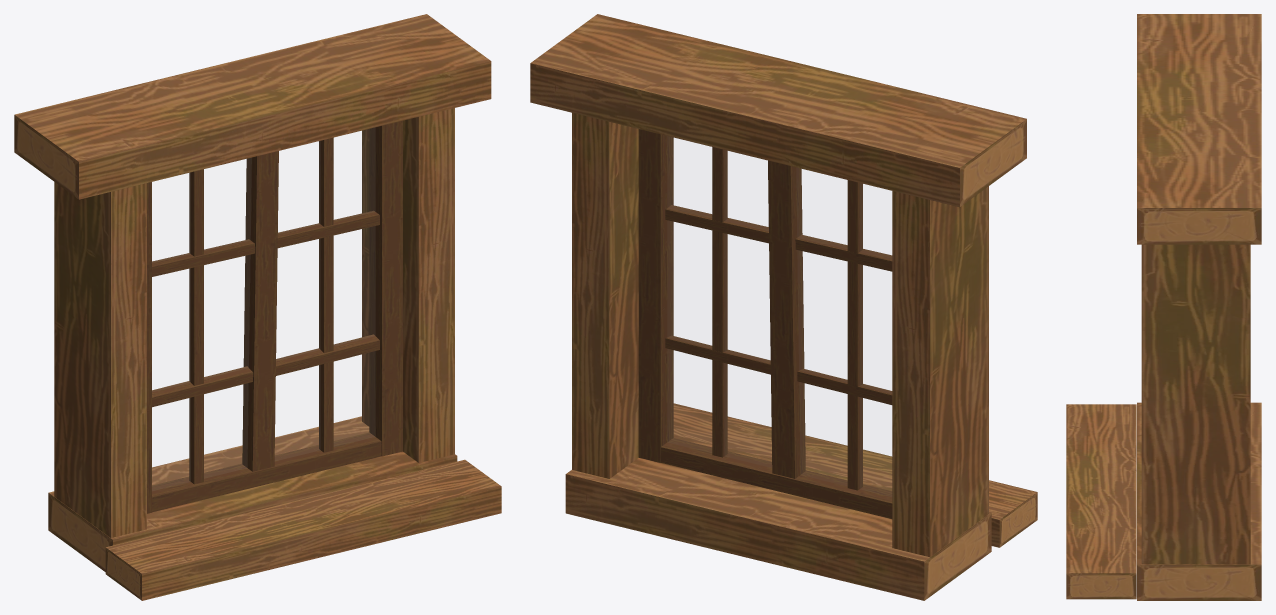
Rendered from Window_Wide_Flat1.gltf.
3 renders of one model, left to right at view 1: azimuth 30°, elevation 25°; view 2: azimuth 150°, elevation 25°; view 3: azimuth 270°, elevation 25°, orthographic. The views are drawn at different scales.
Visible parts, largest first — view 1: Window_Wide_Flat1; view 2: Window_Wide_Flat1; view 3: Window_Wide_Flat1.
Boxes of the visible parts, x1=… form: Window_Wide_Flat1: x1=14, y1=14, x2=501, y2=600; Window_Wide_Flat1: x1=530, y1=14, x2=1037, y2=600; Window_Wide_Flat1: x1=1066, y1=14, x2=1261, y2=600.
Size of the model in its own units: 1.61 by 1.58 by 0.6834.
Materials: 2 (1 with a texture image).
